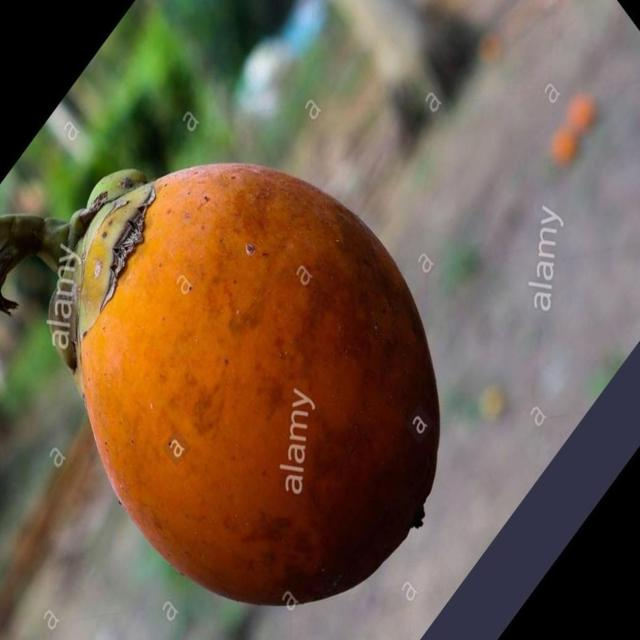good: (47, 164, 442, 609)
